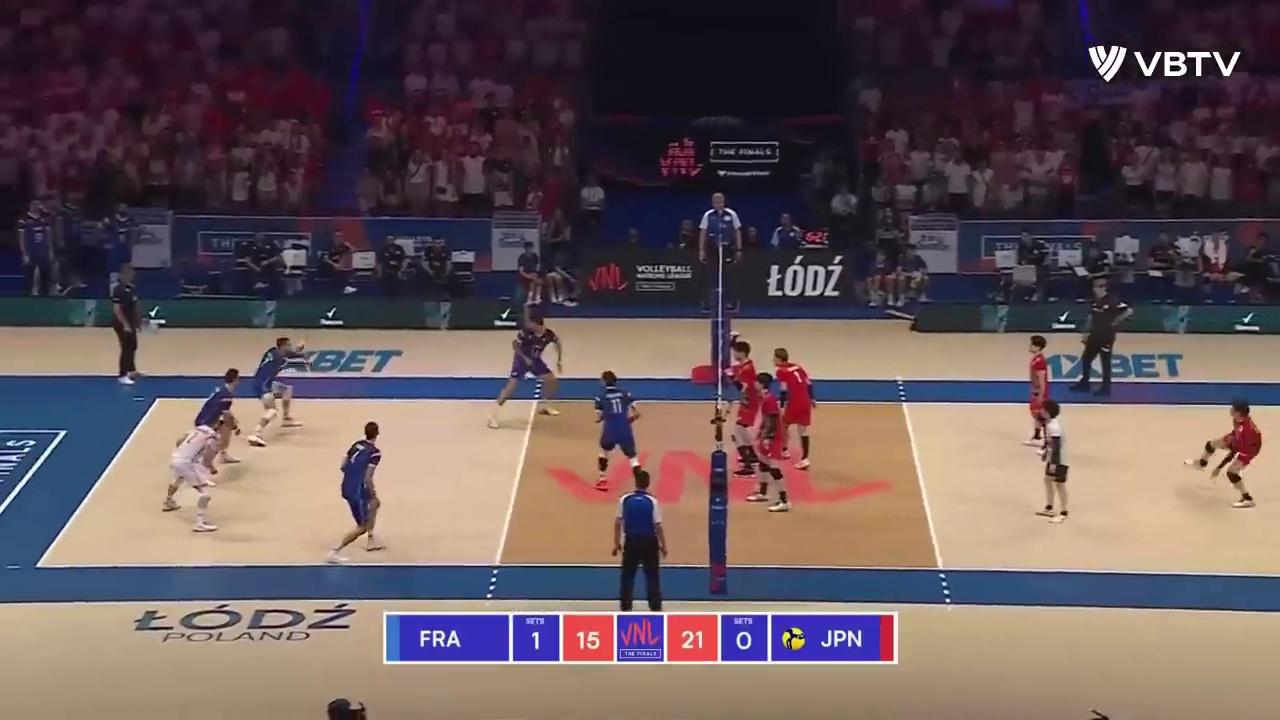ball: (294, 338, 307, 351)
